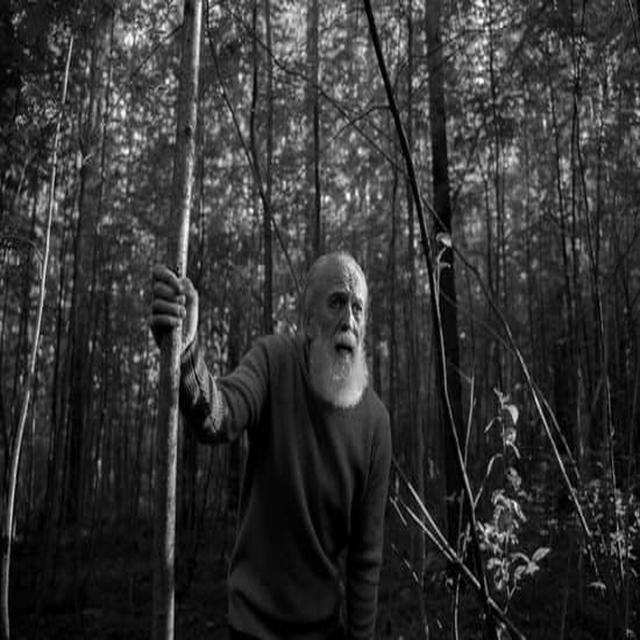Fear: (313, 262, 368, 400)
